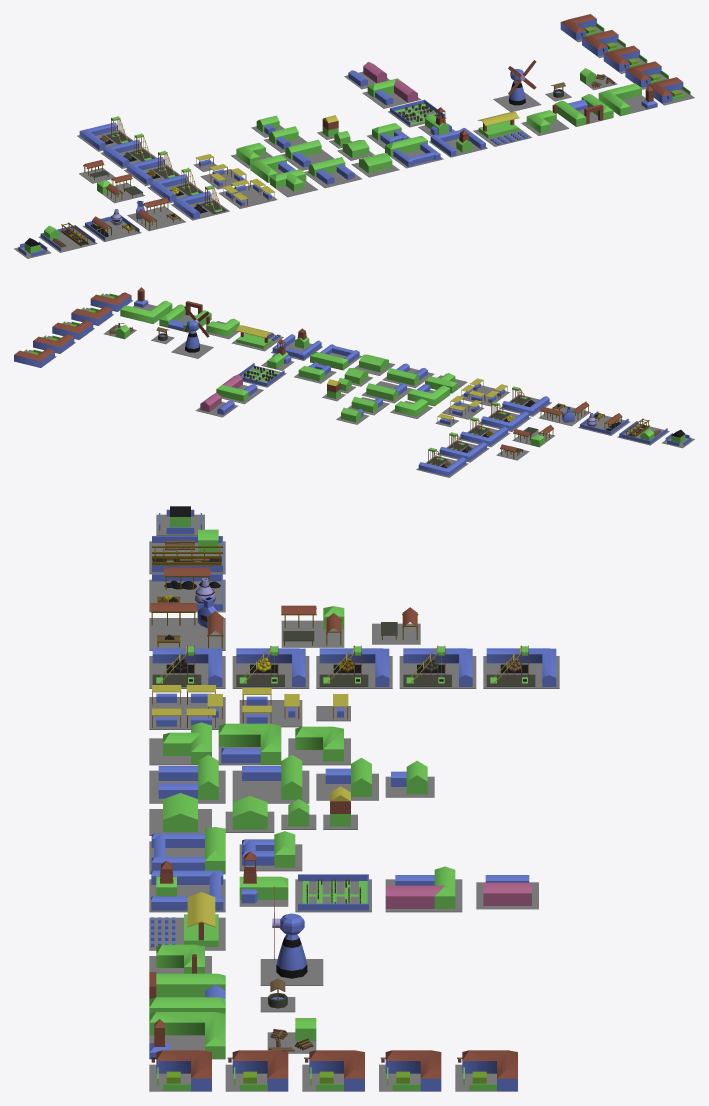
File: all.glb
3 renders of one model, top to bottom at view 1: azimuth 30°, elevation 25°; view 2: azimuth 150°, elevation 25°; view 3: azimuth 270°, elevation 25°, orthographic. The views are drawn at different scales.
Parts seen in each view (by area): view 1: building_9m_3m_g_shape_006, ground_11_x_11_012, building_7m_3m_021, building_7m_3m_g_shape_011, building_7m_3m_g_shape_013, building_7m_3m_g_shape_012, building_7m_3m_g_shape_010, building_7m_3m_g_shape_009, building_9m_3m_g_shape_007, building_7m_3m_014, ground_11_x_11_002, building_9m_3m_024 (+16 smaller); view 2: building_9m_3m_g_shape_006, building_7m_3m_g_shape_013, building_9m_3m_g_shape_007, building_7m_3m_g_shape_010, building_7m_3m_g_shape_012, building_7m_3m_g_shape_011, building_7m_3m_g_shape_009, building_7m_3m_021, building_7m_3m_011, building_9m_3m_024, building_9m_3m_026, building_9m_3m_025 (+17 smaller); view 3: building_9m_3m_g_shape_006, building_9m_3m_g_shape_007, ground_11_x_11_012, building_7m_3m_g_shape_010, building_7m_3m_g_shape_012, building_7m_3m_g_shape_009, building_7m_3m_g_shape_011, building_7m_3m_g_shape_013, building_7m_3m_021, building_7m_3m_014, Cylinder002, building_9m_3m_011 (+29 smaller).
Boxes of the visible parts, x1,y1,x2,y2 form: building_9m_3m_g_shape_006: [598, 83, 641, 115]; ground_11_x_11_012: [127, 206, 185, 231]; building_7m_3m_021: [430, 128, 485, 156]; building_7m_3m_g_shape_011: [603, 45, 639, 71]; building_7m_3m_g_shape_013: [560, 14, 596, 40]; building_7m_3m_g_shape_012: [582, 30, 618, 56]; building_7m_3m_g_shape_010: [625, 61, 661, 87]; building_7m_3m_g_shape_009: [646, 77, 683, 103]; building_9m_3m_g_shape_007: [250, 154, 286, 182]; building_7m_3m_014: [393, 142, 440, 166]; ground_11_x_11_002: [219, 184, 277, 208]; building_9m_3m_024: [79, 122, 117, 150]; building_9m_3m_g_shape_006: [120, 300, 172, 323]; building_7m_3m_g_shape_013: [14, 348, 54, 367]; building_9m_3m_g_shape_007: [407, 385, 450, 405]; building_7m_3m_g_shape_010: [71, 306, 112, 325]; building_7m_3m_g_shape_012: [33, 334, 74, 353]; building_7m_3m_g_shape_011: [52, 320, 93, 339]; building_7m_3m_g_shape_009: [90, 292, 131, 311]; building_7m_3m_021: [272, 334, 321, 359]; building_7m_3m_011: [310, 352, 348, 369]; building_9m_3m_024: [418, 457, 466, 476]; building_9m_3m_026: [460, 426, 507, 445]; building_9m_3m_025: [439, 442, 486, 461]; building_9m_3m_g_shape_006: [149, 1012, 225, 1058]; building_9m_3m_g_shape_007: [218, 723, 281, 764]; ground_11_x_11_012: [149, 618, 225, 650]; building_7m_3m_g_shape_010: [232, 1050, 288, 1091]; building_7m_3m_g_shape_012: [385, 1050, 441, 1091]; building_7m_3m_g_shape_009: [156, 1050, 211, 1091]; building_7m_3m_g_shape_011: [309, 1050, 364, 1091]; building_7m_3m_g_shape_013: [462, 1050, 517, 1091]; building_7m_3m_021: [151, 870, 223, 910]; building_7m_3m_014: [151, 833, 204, 870]; Cylinder002: [276, 913, 307, 978]; building_9m_3m_011: [156, 973, 225, 996].
Size of the model in its own units: 19600 by 1225 by 5900.
